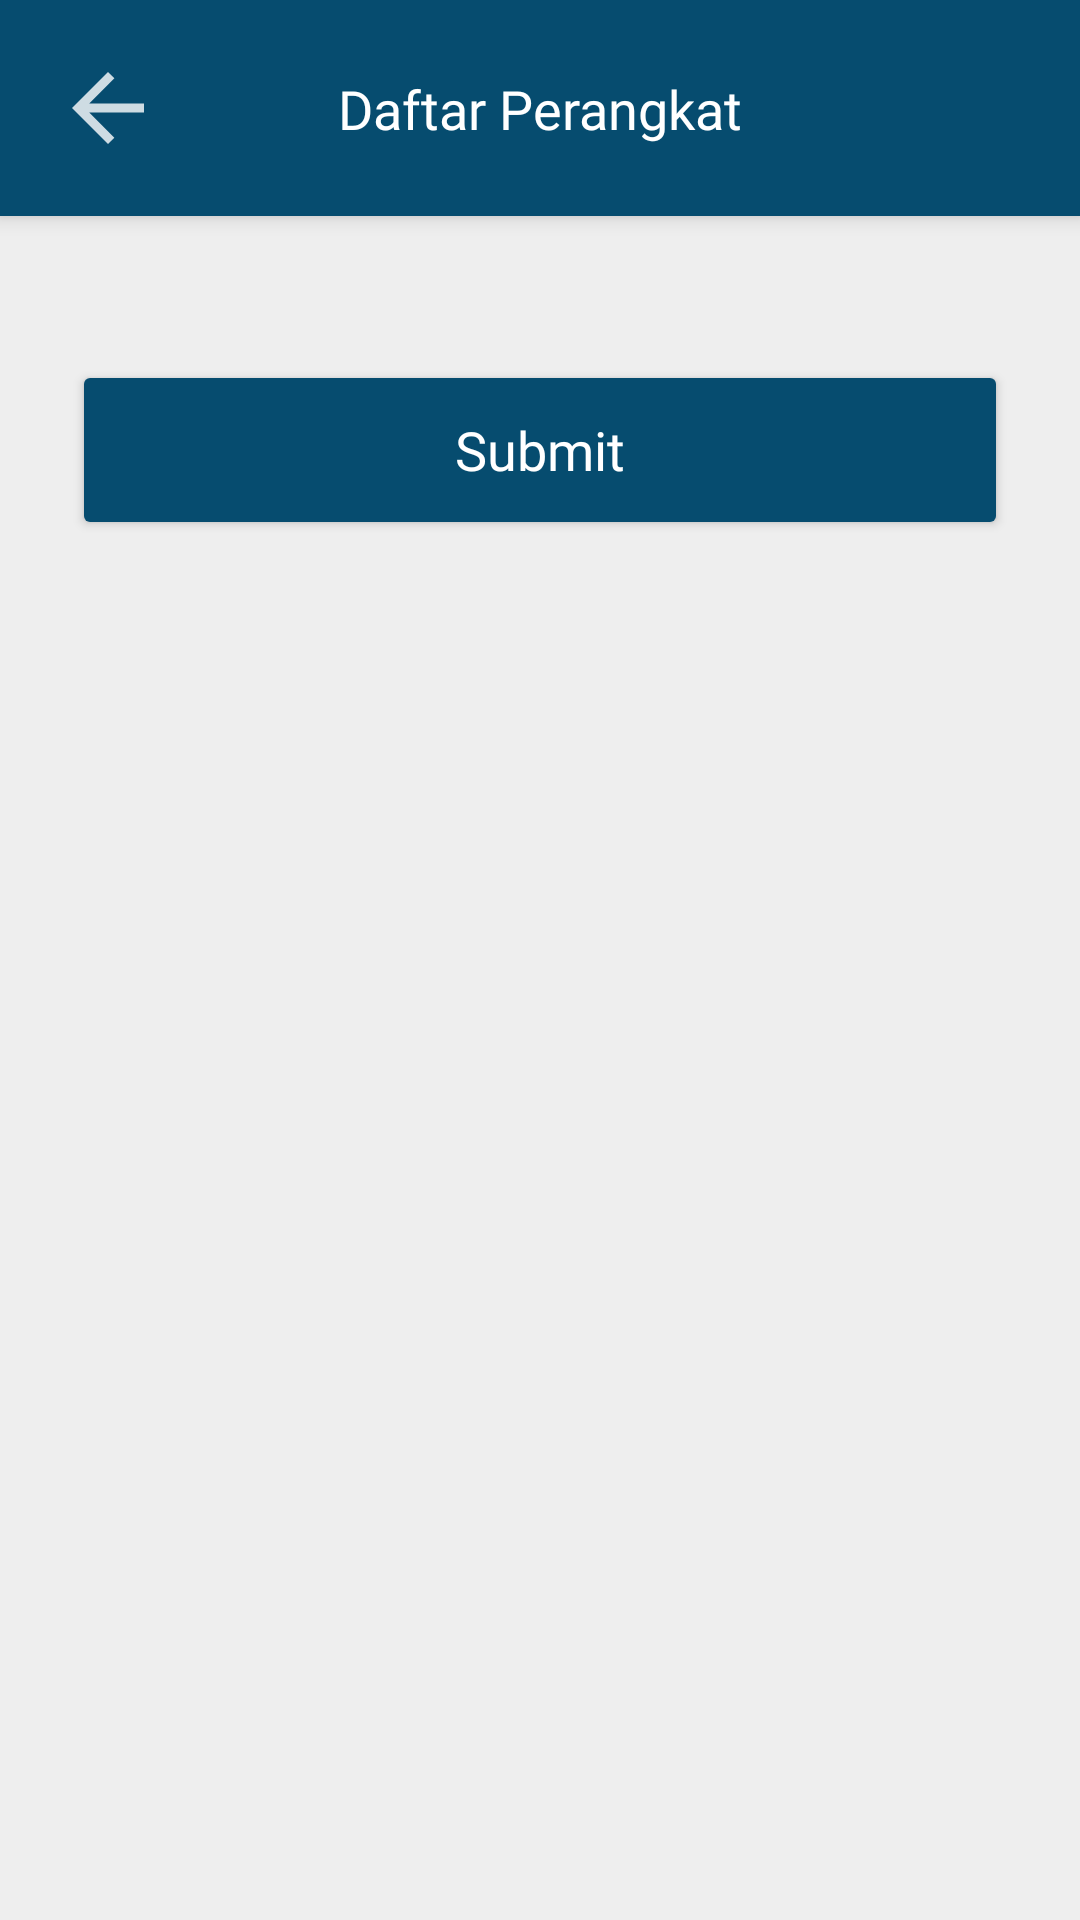

Icon click points for this 1080 × 1920 phone screenshot, format [x,y]:
back: [108,108]
